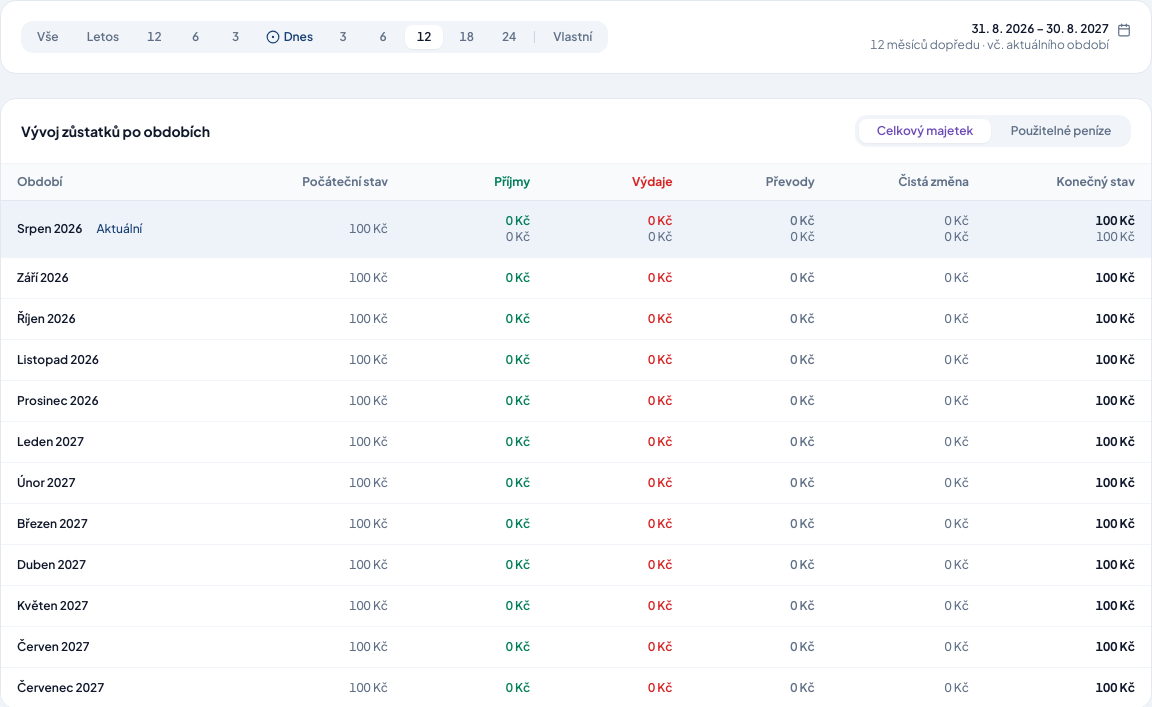
Test case: rejects incomplete and reversed custom ranges without changing the selection
This screenshot has width=1152, height=707.
Click the button "Vlastní" at coordinates (573, 37), box top-left (541, 25), bottom-right (604, 49)
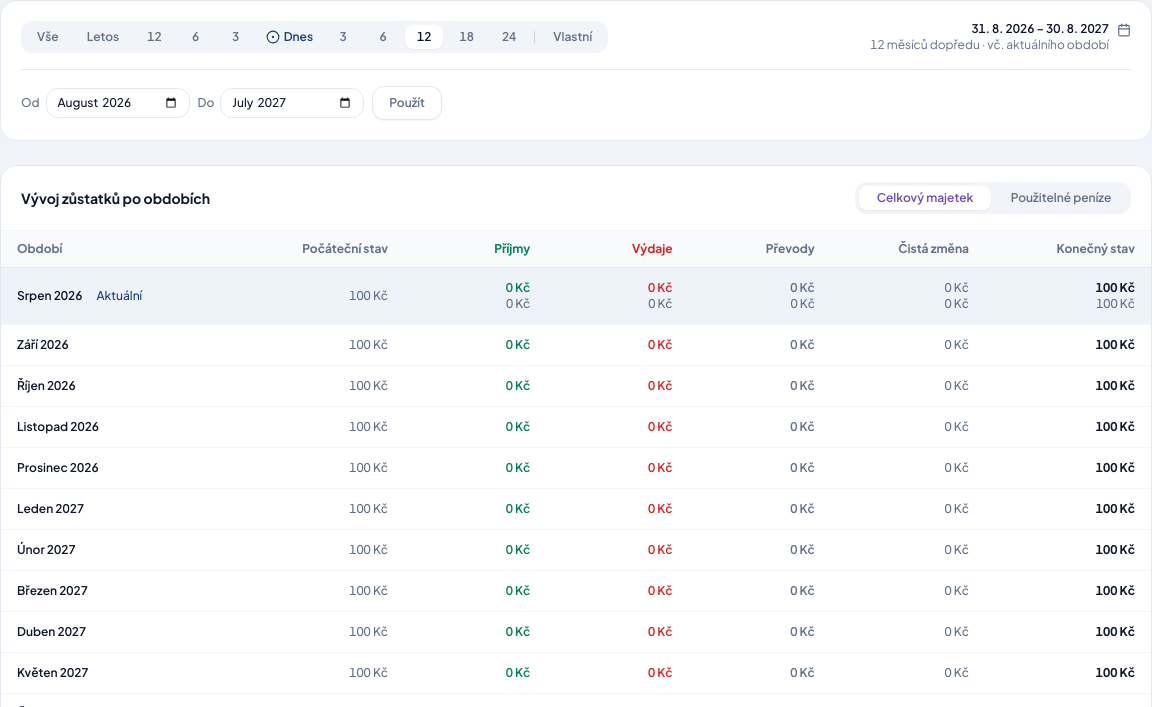
Clear the field labelled "Od" at coordinates (118, 103), box top-left (46, 88), bottom-right (190, 118)
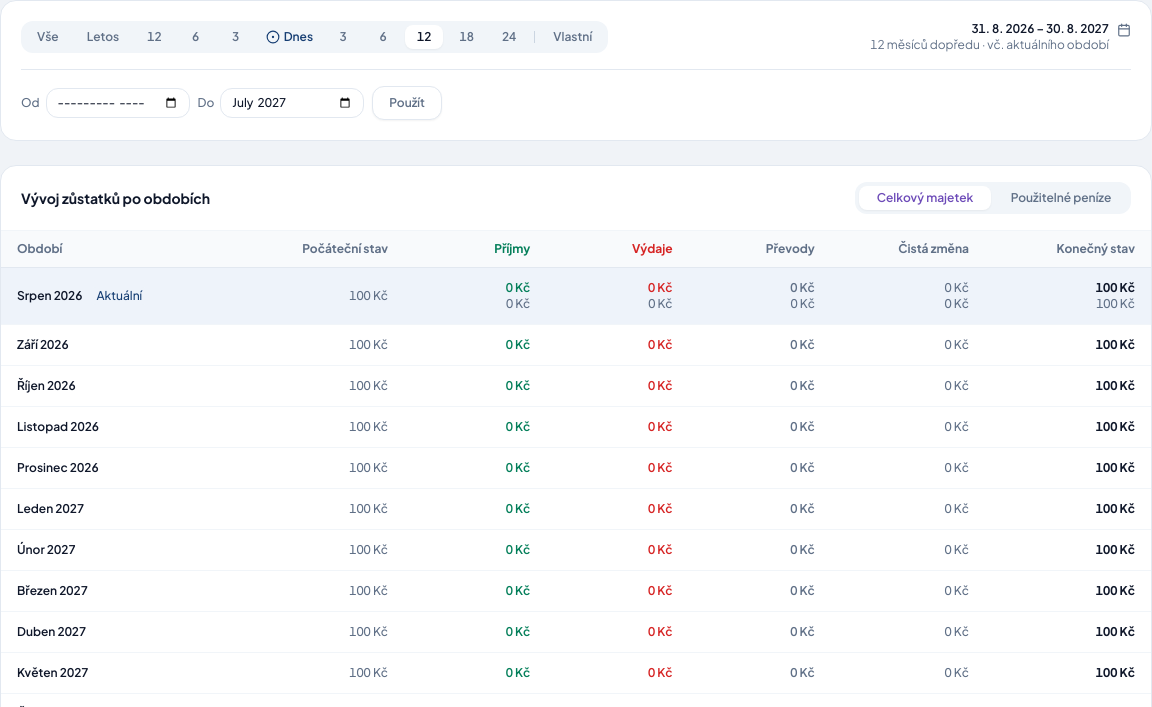
Click the button "Použít" at coordinates (407, 103), box top-left (372, 86), bottom-right (442, 120)
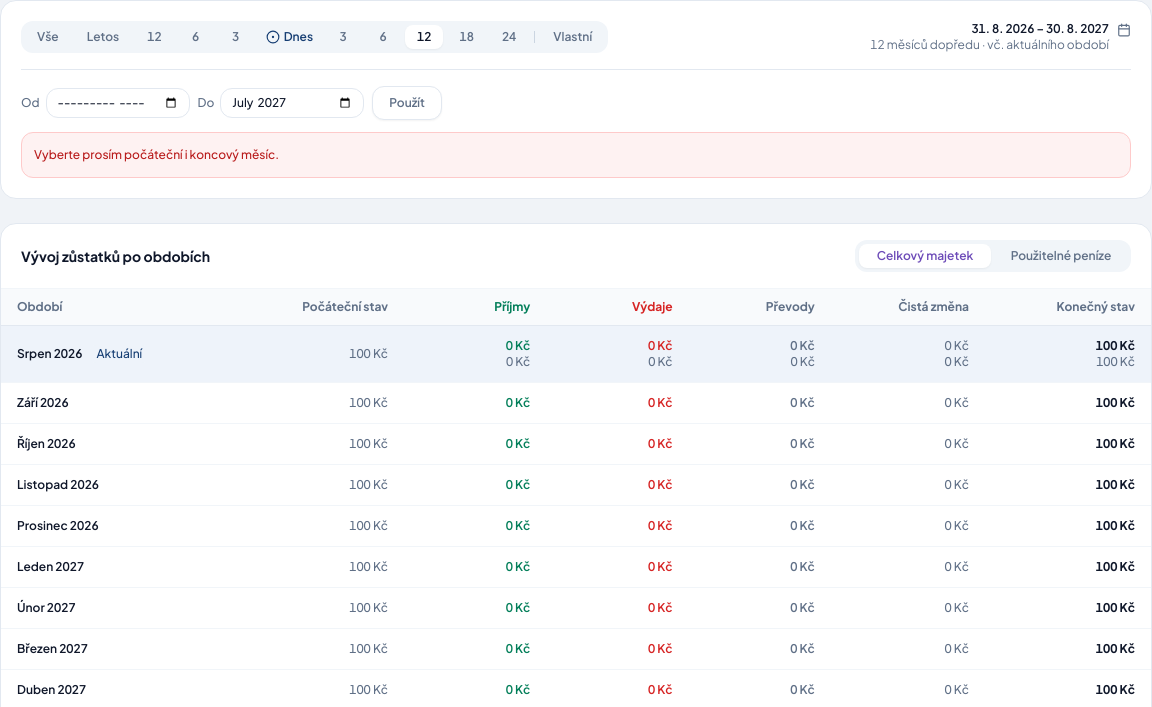
Expected: the text "Vyberte prosím" is shown, top-left (34, 147), bottom-right (279, 162)
Type "2026-08" into the field labelled "Od" at coordinates (118, 103), box top-left (46, 88), bottom-right (190, 118)
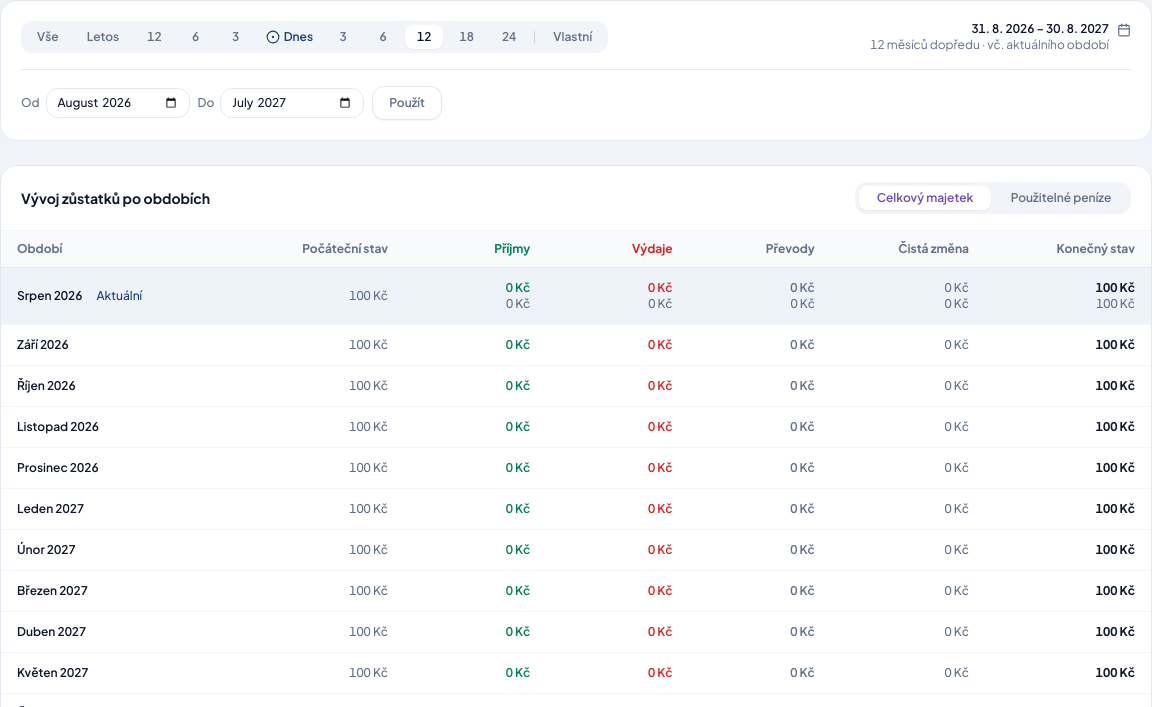
Replace the text in the field labelled "Do" with "2026-01" at coordinates (292, 103), box top-left (220, 88), bottom-right (364, 118)
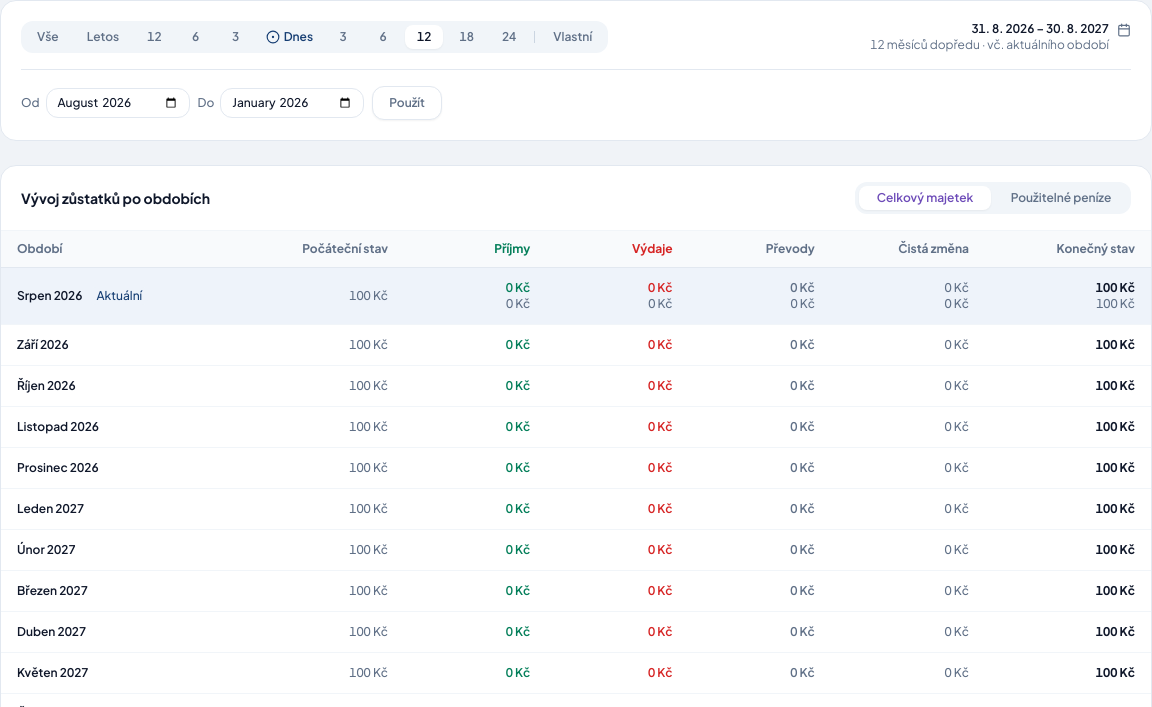
Click the button "Použít" at coordinates (407, 103), box top-left (372, 86), bottom-right (442, 120)
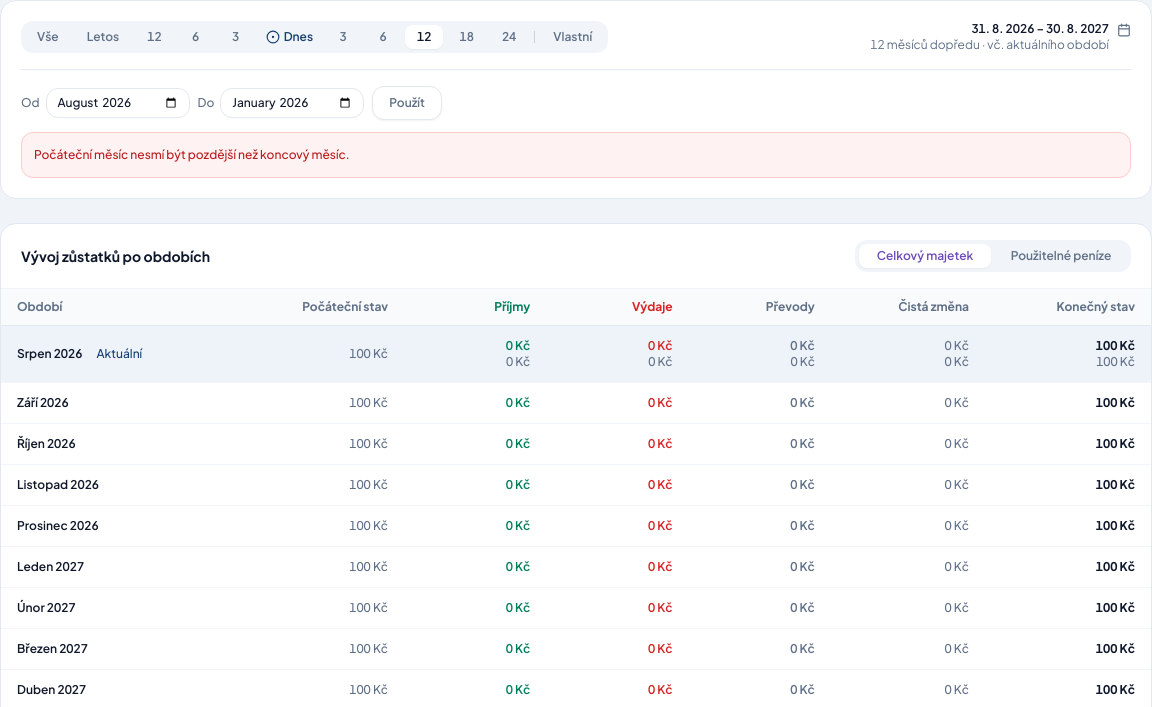
Expected: the text "Počáteční měsíc nesmí" is shown, top-left (34, 147), bottom-right (350, 162)
